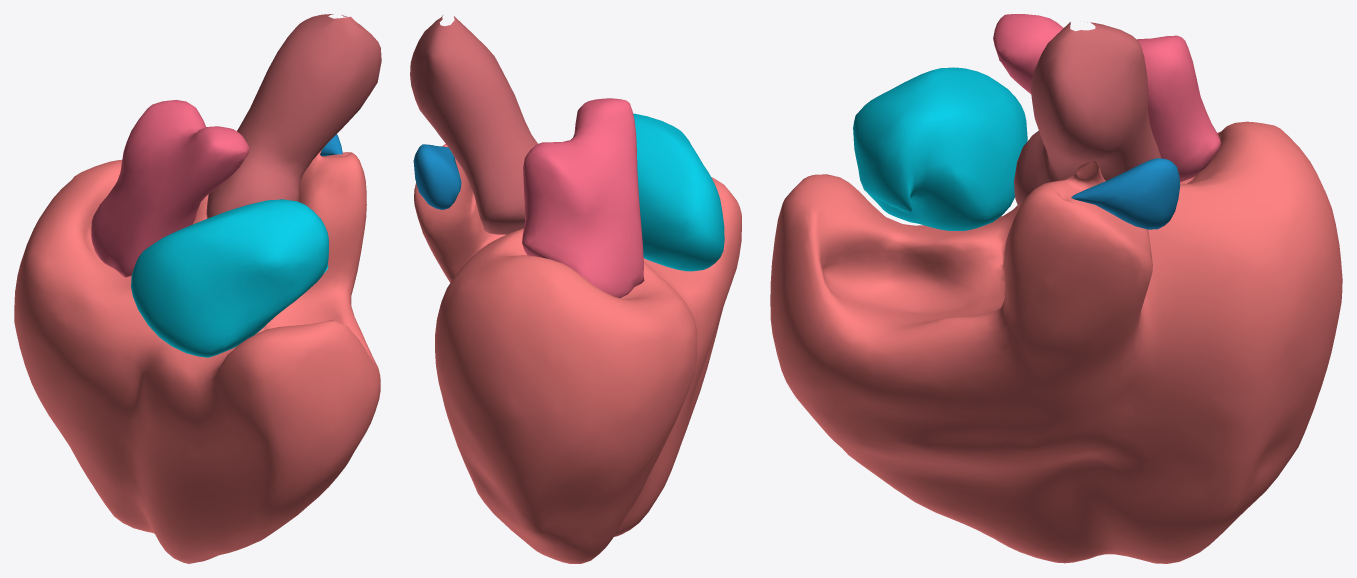
File: frame_63.glb
3 views of the same model, side by side, from view 1: azimuth 30°, elevation 25°; view 2: azimuth 150°, elevation 25°; view 3: azimuth 270°, elevation 25° (orthographic). The views are drawn at different scales.
Visible parts, largest first — view 1: Renderer Node; view 2: Renderer Node; view 3: Renderer Node.
Part boxes in pixels (box(x1,y1,x2,y2)): Renderer Node: box(14, 14, 381, 563); Renderer Node: box(410, 15, 741, 563); Renderer Node: box(770, 14, 1342, 563).
Bounding box in the file's own units: 102 × 158 × 129.
